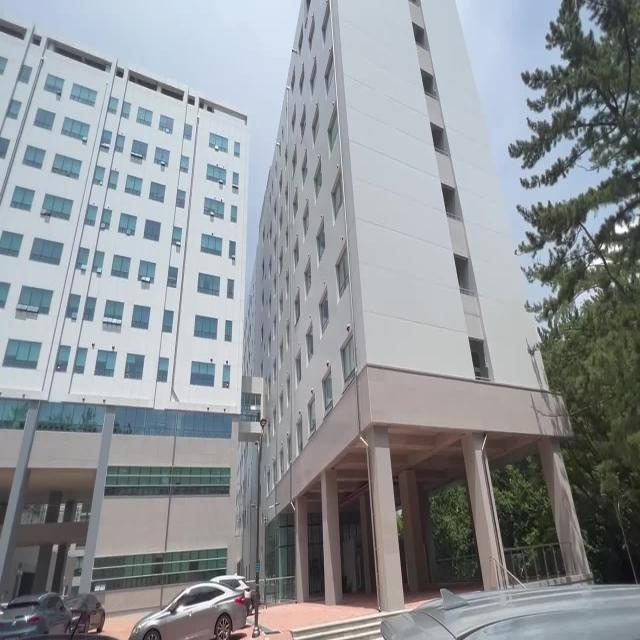building: (13, 0, 535, 558)
